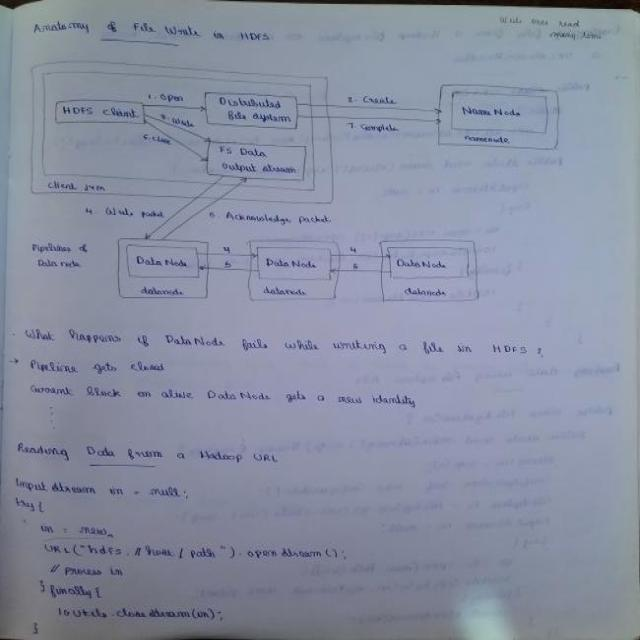Figure Detection - v3 Dataset Version2: (22, 46, 546, 320)
